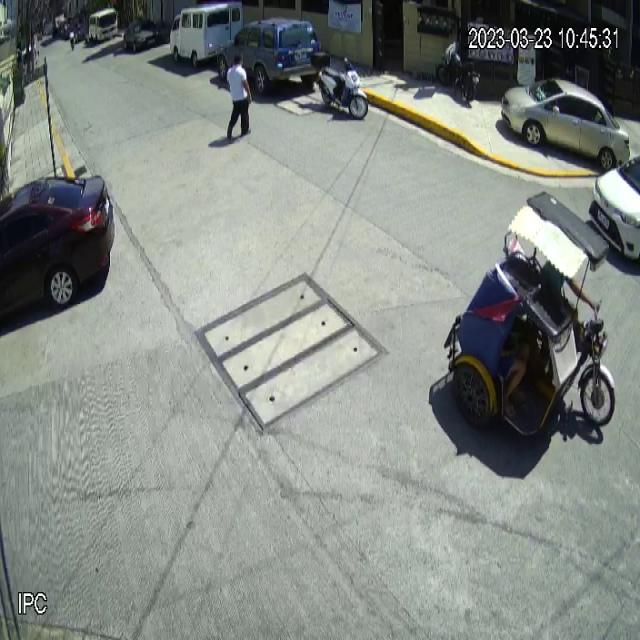Car: (500, 76, 631, 173), (215, 16, 321, 96)
Motorcycle: (310, 51, 369, 121)
Tricycle: (442, 186, 616, 443)
Van: (168, 1, 244, 69)
